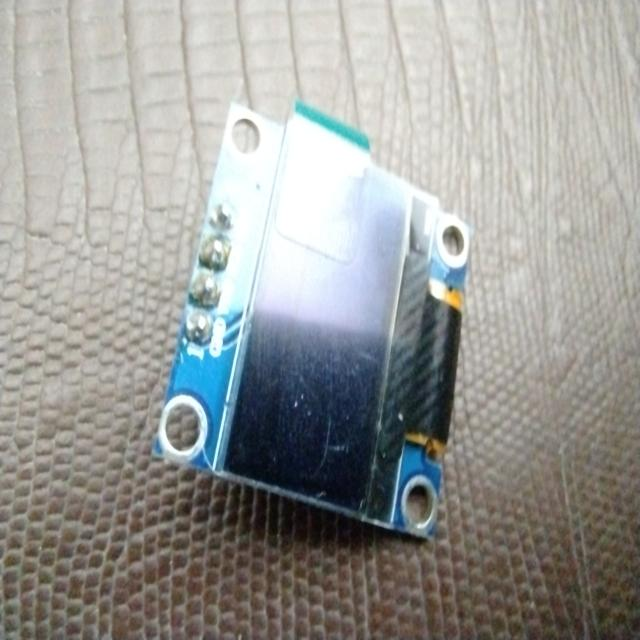oled: (150, 82, 474, 556)
